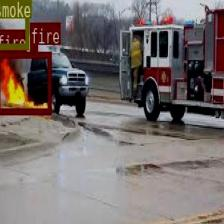fire: (0, 51, 51, 113), (30, 45, 37, 57)
smoke: (0, 0, 28, 48)
